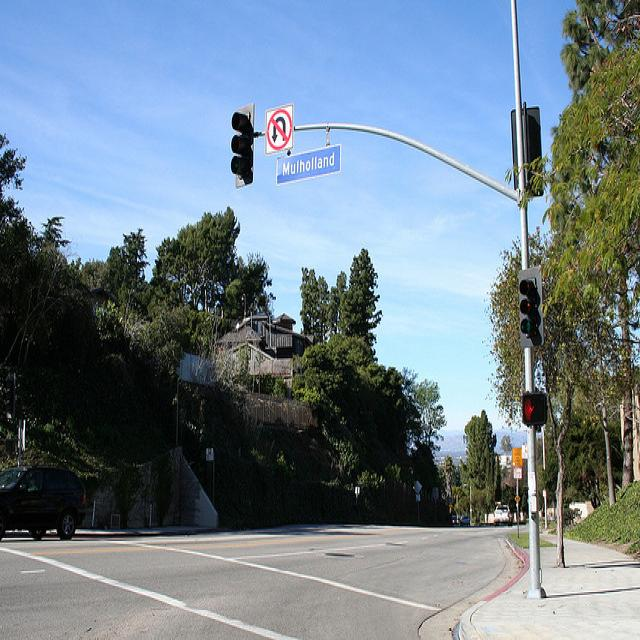Vehicle: (0, 466, 86, 542), (0, 466, 86, 540), (494, 505, 513, 527), (460, 515, 470, 527)
